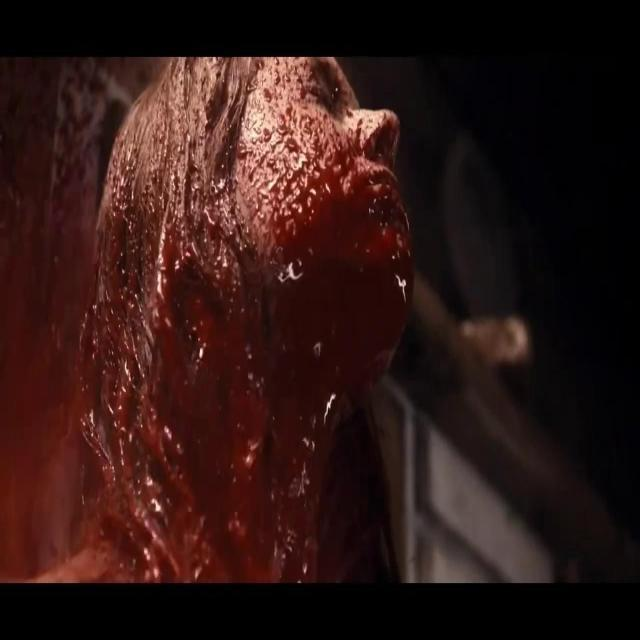flood: (95, 87, 378, 585)
